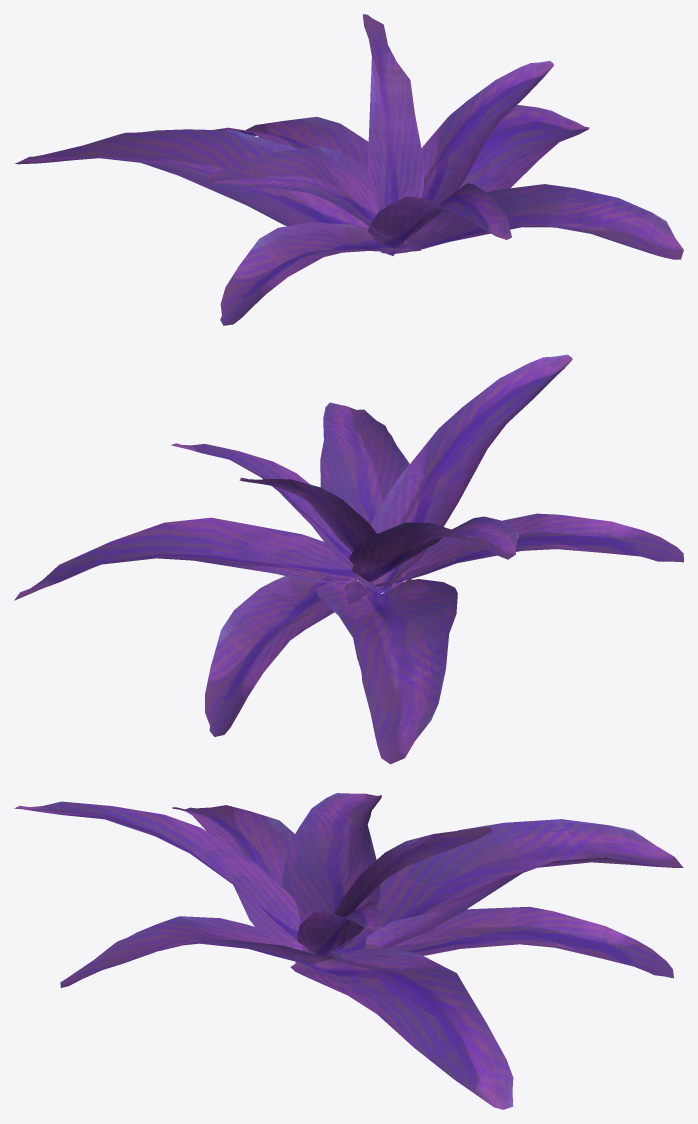
The model's file is touffe_violette2.fbx.
The picture shows the model from 3 angles, top to bottom: view 1: azimuth 30°, elevation 25°; view 2: azimuth 150°, elevation 25°; view 3: azimuth 270°, elevation 25°; orthographic projection. The views are drawn at different scales.
Parts seen in each view (by area): view 1: Plane.022, Plane.026, Plane.030, Plane.025, Plane.029, Plane.027, Plane.024, Plane.028, Plane.023; view 2: Plane.022, Plane.028, Plane.024, Plane.023, Plane.026, Plane.025, Plane.027, Plane.029, Plane.030; view 3: Plane.022, Plane.024, Plane.023, Plane.027, Plane.028, Plane.026, Plane.025, Plane.030, Plane.029.
Part boxes in pixels (x1=…): Plane.022: x1=15, y1=129, x2=394, y2=256; Plane.026: x1=380, y1=184, x2=683, y2=259; Plane.030: x1=363, y1=14, x2=424, y2=212; Plane.025: x1=220, y1=222, x2=420, y2=325; Plane.029: x1=414, y1=60, x2=553, y2=233; Plane.027: x1=207, y1=146, x2=390, y2=238; Plane.024: x1=404, y1=104, x2=589, y2=244; Plane.028: x1=368, y1=183, x2=511, y2=248; Plane.023: x1=214, y1=116, x2=368, y2=172; Plane.022: x1=316, y1=578, x2=457, y2=764; Plane.028: x1=370, y1=354, x2=572, y2=590; Plane.024: x1=14, y1=517, x2=363, y2=600; Plane.023: x1=205, y1=571, x2=368, y2=736; Plane.026: x1=320, y1=402, x2=410, y2=593; Plane.025: x1=375, y1=513, x2=683, y2=586; Plane.027: x1=349, y1=516, x2=518, y2=582; Plane.029: x1=171, y1=443, x2=353, y2=566; Plane.030: x1=239, y1=477, x2=391, y2=571; Plane.022: x1=333, y1=819, x2=683, y2=953; Plane.024: x1=290, y1=949, x2=513, y2=1109; Plane.023: x1=364, y1=906, x2=673, y2=978; Plane.027: x1=282, y1=793, x2=381, y2=951; Plane.028: x1=14, y1=801, x2=317, y2=954; Plane.026: x1=60, y1=916, x2=335, y2=987; Plane.025: x1=172, y1=805, x2=335, y2=956; Plane.030: x1=333, y1=827, x2=491, y2=917; Plane.029: x1=297, y1=901, x2=382, y2=956.
Bounding box in the file's own units: 290 × 96.22 × 324.
Materials: 1 (1 with a texture image).
